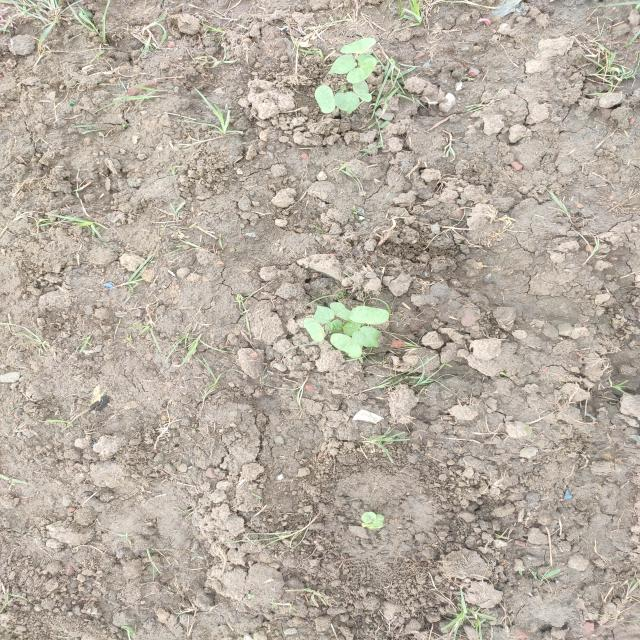seedling_s4: (330, 333, 362, 358), (346, 58, 376, 84), (350, 306, 389, 325), (352, 326, 380, 348), (314, 85, 335, 114), (334, 92, 359, 114), (340, 38, 376, 53), (329, 55, 357, 74), (303, 318, 325, 342), (352, 80, 372, 102), (330, 302, 351, 321), (314, 305, 334, 324), (342, 320, 361, 336), (326, 320, 343, 333), (358, 54, 375, 66), (361, 512, 376, 523), (373, 514, 384, 528)
